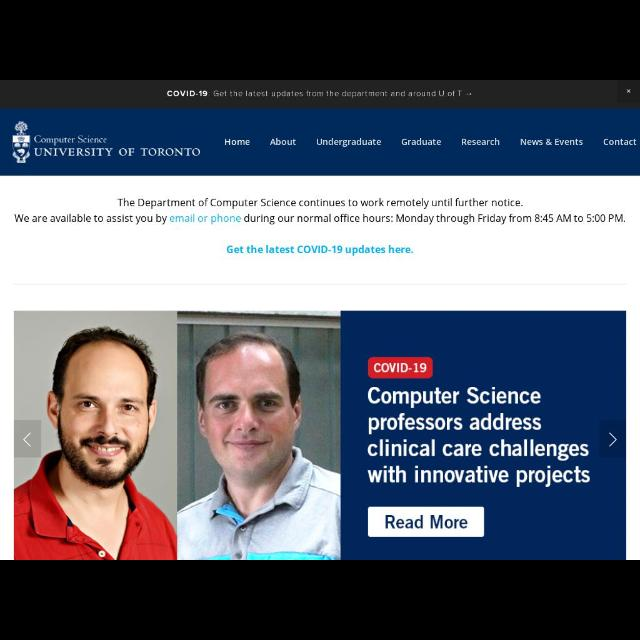button: (13, 422, 42, 458), (598, 420, 626, 456), (618, 81, 638, 101)
icon: (22, 432, 32, 448), (608, 432, 618, 448), (466, 92, 472, 96), (626, 88, 630, 94)
iframe: (1, 80, 640, 108)
image: (15, 311, 627, 559), (12, 121, 200, 162)
multitab: (222, 138, 638, 148)
text: (14, 213, 626, 224), (117, 198, 523, 210), (168, 90, 462, 98), (226, 246, 414, 254), (316, 139, 382, 147), (520, 138, 584, 146), (401, 138, 441, 146), (461, 138, 501, 146), (602, 138, 638, 146), (223, 138, 250, 146), (270, 138, 296, 146)
